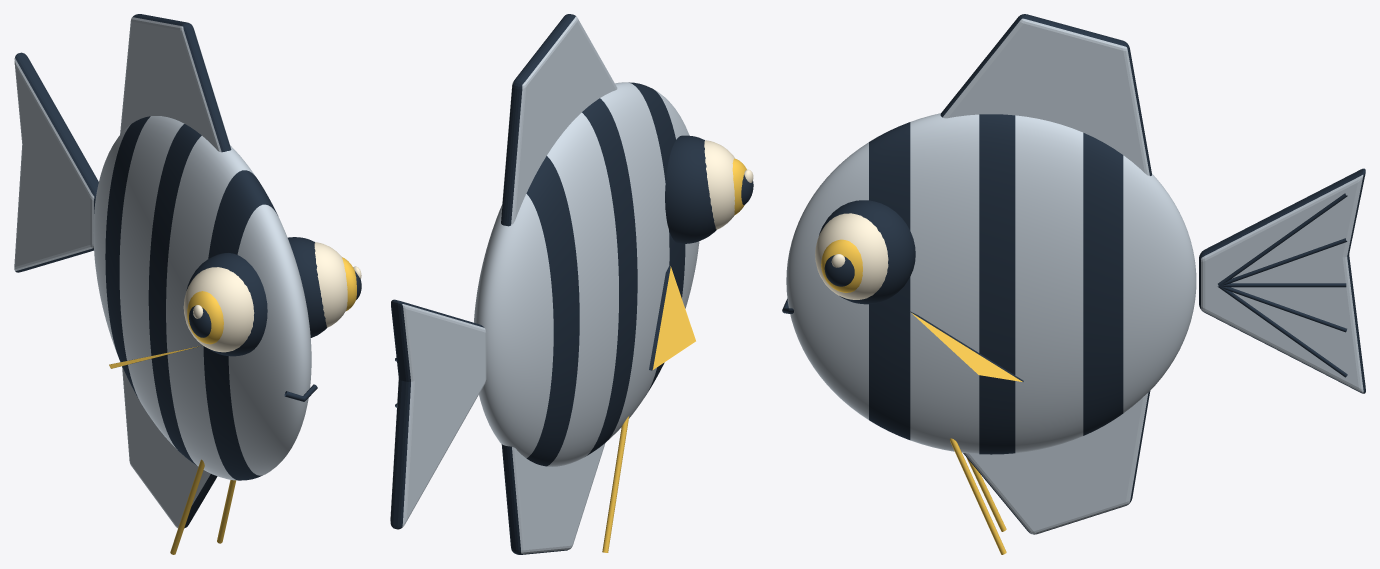
The model's file is angelfish-hd.glb.
3 views of the same model, side by side, from view 1: azimuth 30°, elevation 25°; view 2: azimuth 150°, elevation 25°; view 3: azimuth 270°, elevation 25° (orthographic). The views are drawn at different scales.
Parts seen in each view (by area): view 1: BodyMesh, TailMesh; view 2: BodyMesh, TailMesh; view 3: BodyMesh, TailMesh.
Part boxes in pixels (x1=…): BodyMesh: x1=93, y1=14, x2=361, y2=554; TailMesh: x1=14, y1=52, x2=98, y2=272; BodyMesh: x1=474, y1=14, x2=753, y2=554; TailMesh: x1=390, y1=299, x2=486, y2=529; BodyMesh: x1=782, y1=14, x2=1196, y2=554; TailMesh: x1=1199, y1=168, x2=1365, y2=393.
Size of the model in its own units: 0.9228 by 2.33 by 2.33.
